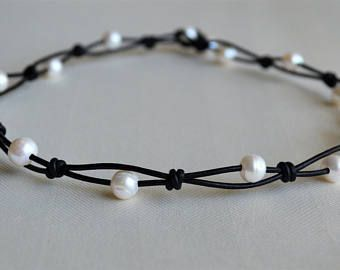cuero: (1, 27, 339, 191)
